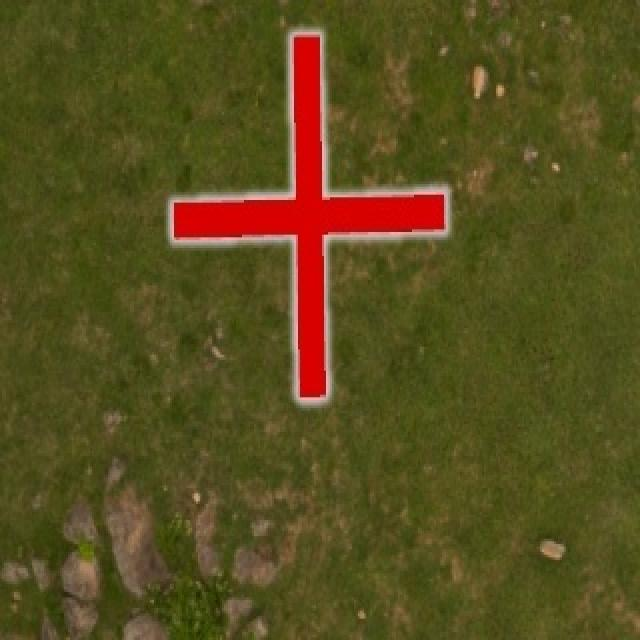x_marker: (171, 33, 445, 399)
